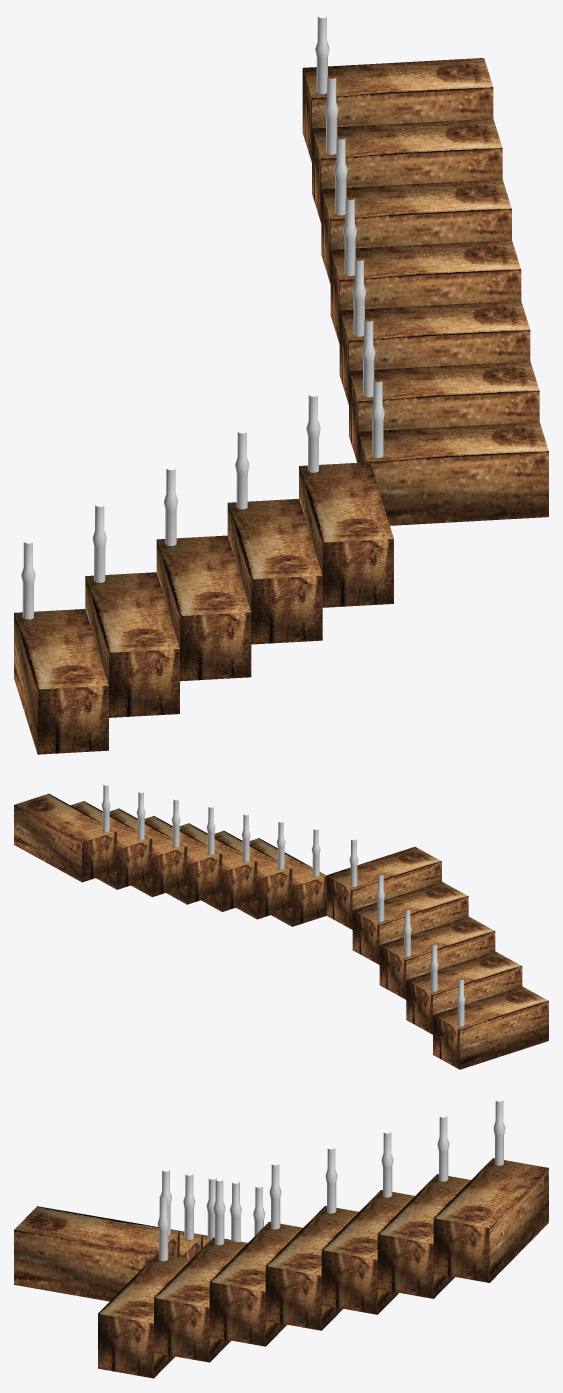
File: stairs_a.glb
3 views of the same model, one above another, from view 1: azimuth 30°, elevation 25°; view 2: azimuth 150°, elevation 25°; view 3: azimuth 270°, elevation 25° (orthographic). The views are drawn at different scales.
Visible parts, largest first — view 1: dark-wall-wood.png__, stktex_generic_WoodA.png__; view 2: dark-wall-wood.png__, stktex_generic_WoodA.png__; view 3: dark-wall-wood.png__, stktex_generic_WoodA.png__.
Part boxes in pixels (x1,y1,x2,y2): dark-wall-wood.png__: [14, 58, 548, 754]; stktex_generic_WoodA.png__: [21, 16, 384, 619]; dark-wall-wood.png__: [14, 793, 548, 1069]; stktex_generic_WoodA.png__: [101, 785, 465, 1026]; dark-wall-wood.png__: [14, 1158, 548, 1378]; stktex_generic_WoodA.png__: [157, 1100, 505, 1261].
Size of the model in its own units: 21.19 by 13.99 by 17.65.
Materials: 2 (1 with a texture image).
